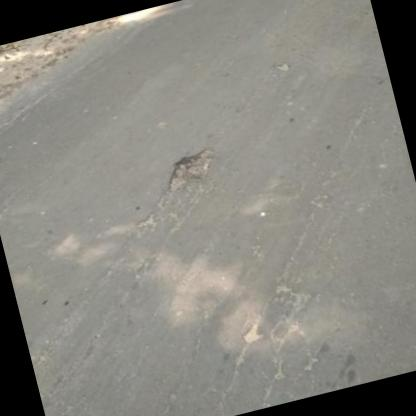pothole: (160, 144, 221, 195), (238, 321, 266, 346), (0, 58, 24, 79), (273, 59, 291, 74), (2, 40, 22, 50), (0, 51, 6, 61)
